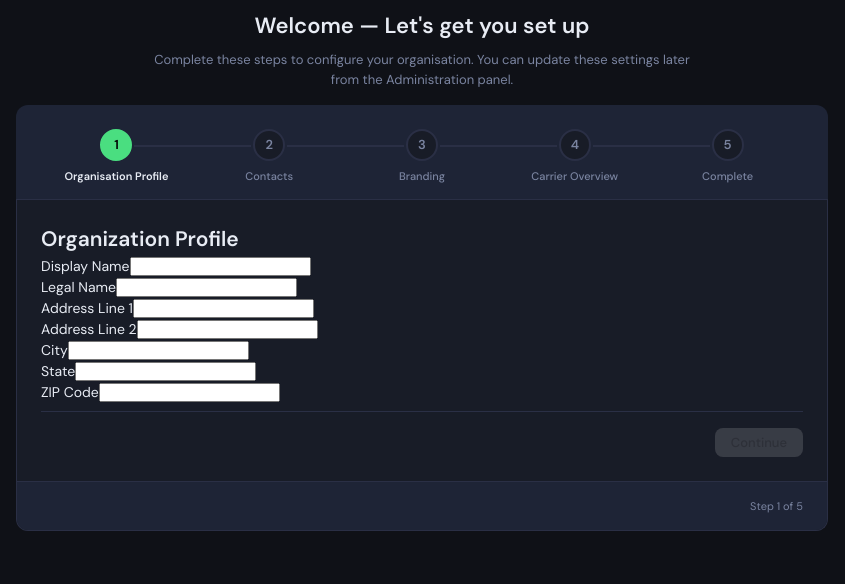
OnboardingWizard › step 3: logo drag-drop zone renders
Type "Corp" into the field labelled "Display Name" at coordinates (220, 266), box [130,257,310,276]
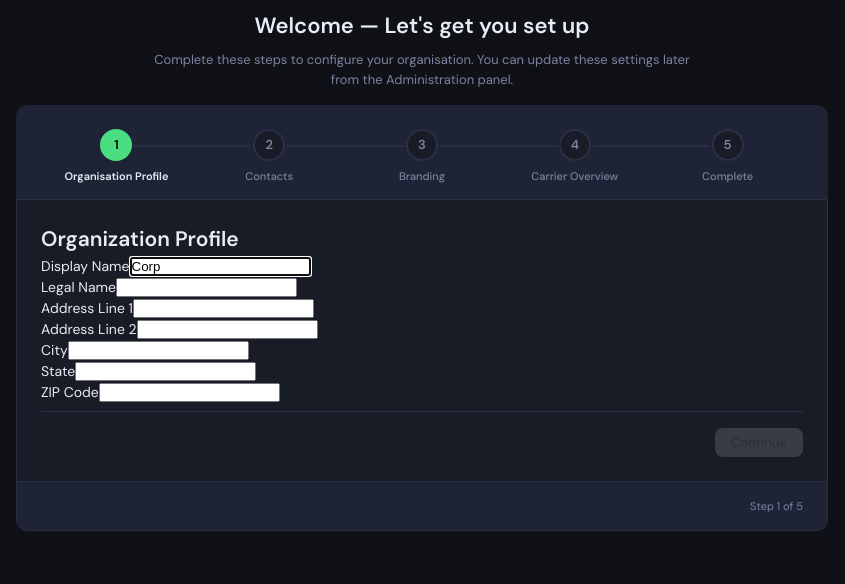
Type "Corp LLC" into the field labelled "Legal Name" at coordinates (206, 287), box [116,278,297,297]
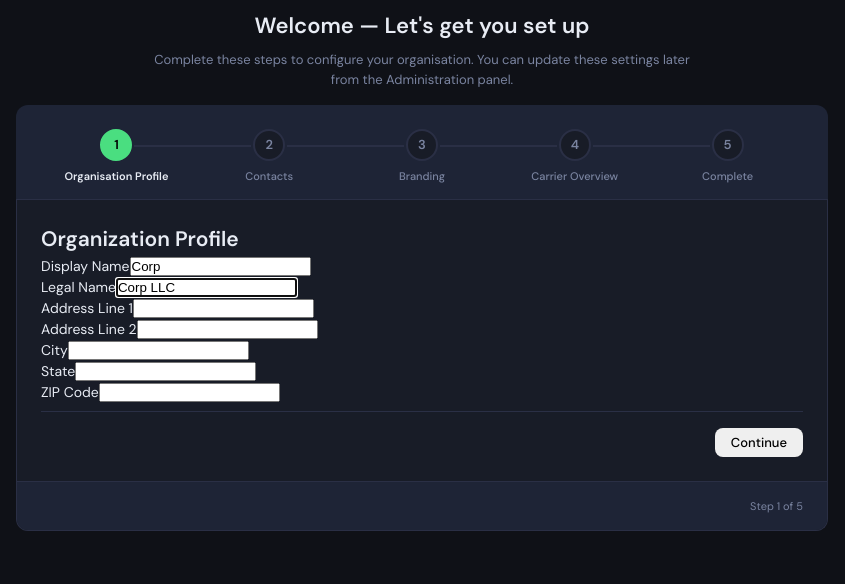
Click the button "Continue" at coordinates (759, 442), box [715,428,803,457]
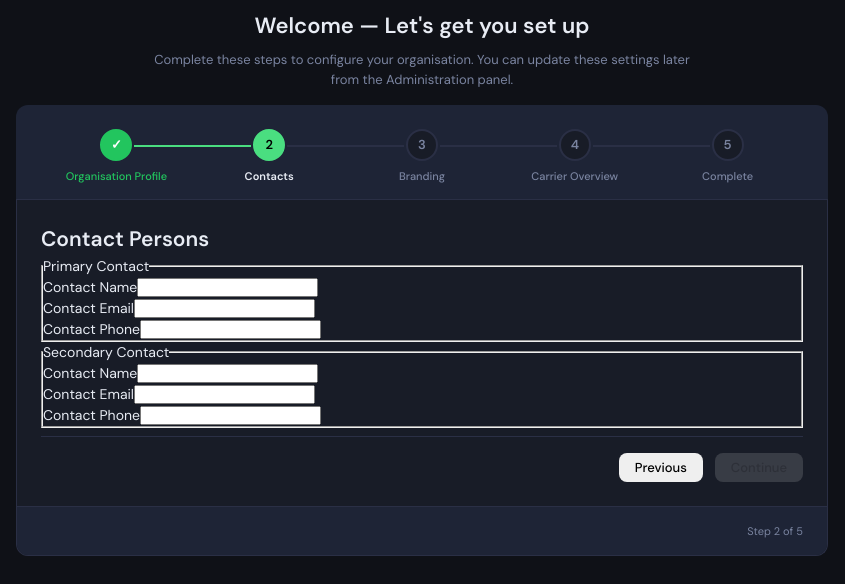
Now the text "Primary Contact" is shown, box [43,256,149,277]
Type "Alice" into the field labelled "Contact Name" below "Primary Contact" at coordinates (228, 287), box [137,278,318,297]
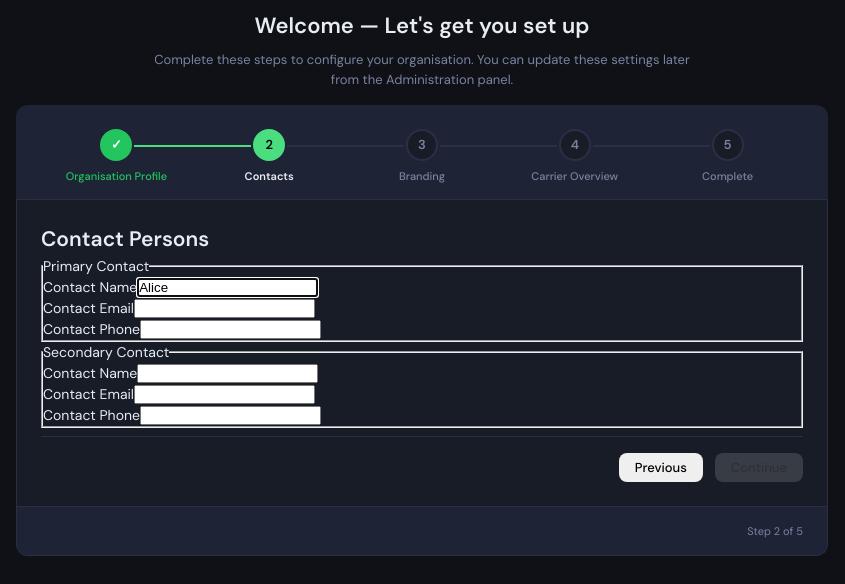
Type "alice@corp.com" into the field labelled "Contact Email" below "Primary Contact" at coordinates (224, 308), box [134,299,315,318]
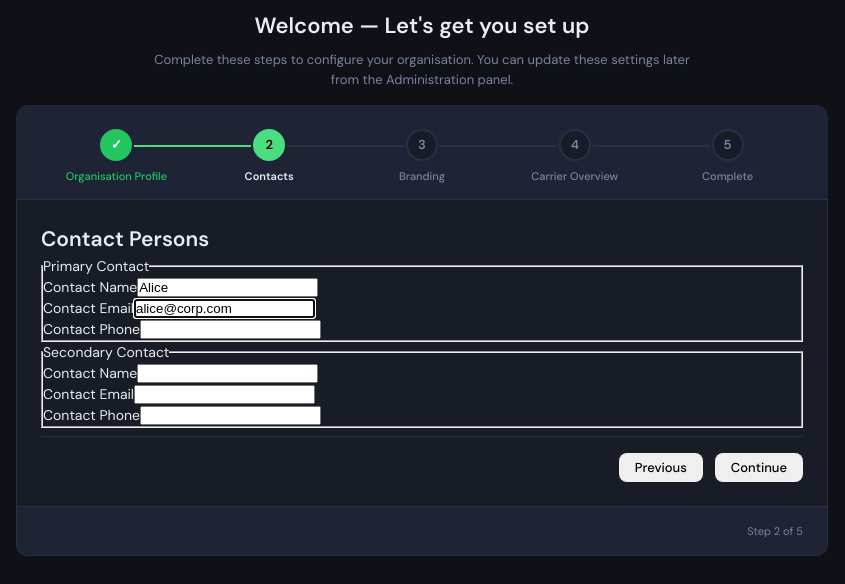
Click the button "Continue" at coordinates (759, 467), box [715,453,803,482]
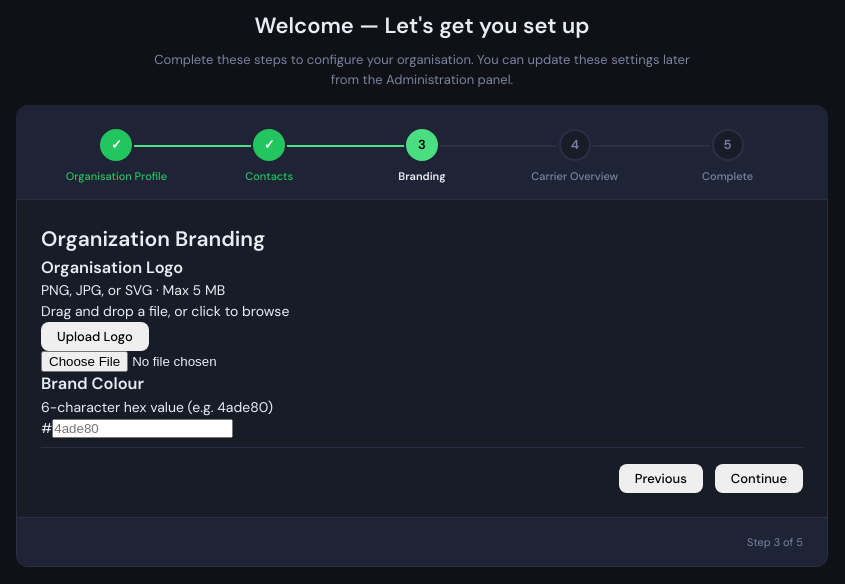
Now the button labelled "Drag and drop a file, or click to browse Upload Logo" is shown, box [41,302,289,351]
